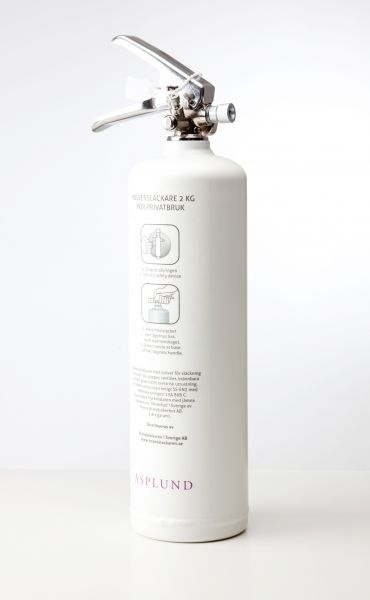fire_extinguisher: (90, 33, 249, 543)
